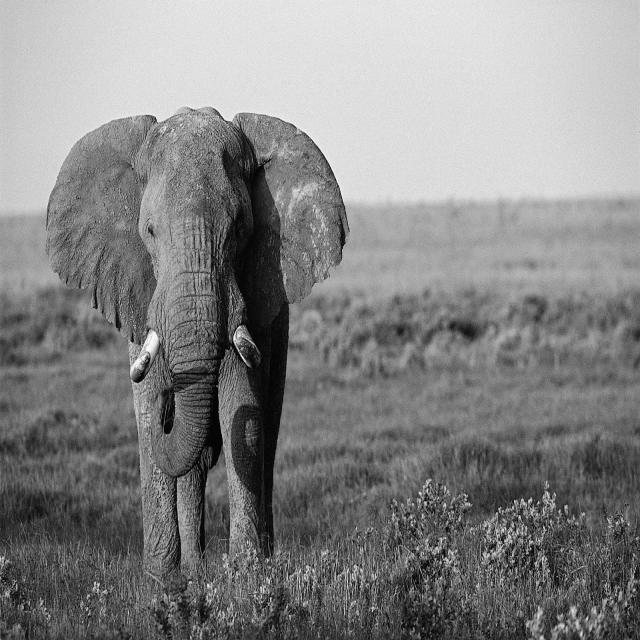Elephant: (44, 105, 350, 583)
